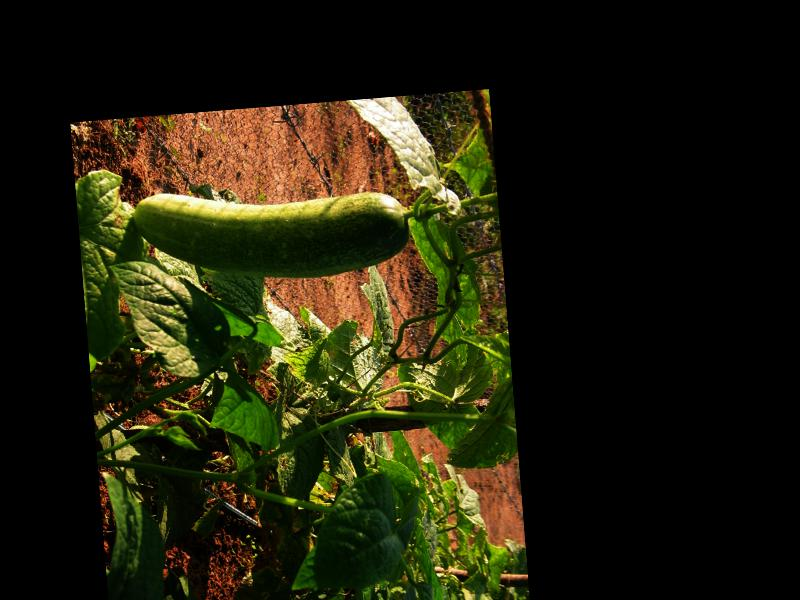Cucumber: (132, 174, 410, 290)
